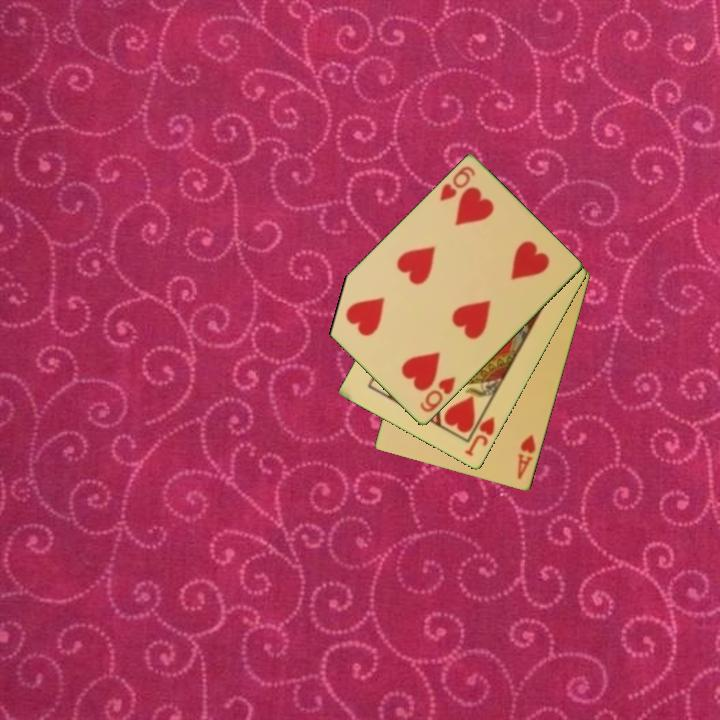6h: (416, 373, 459, 416), (436, 163, 478, 205)
Ah: (514, 431, 539, 482)
Jh: (461, 413, 498, 459)
